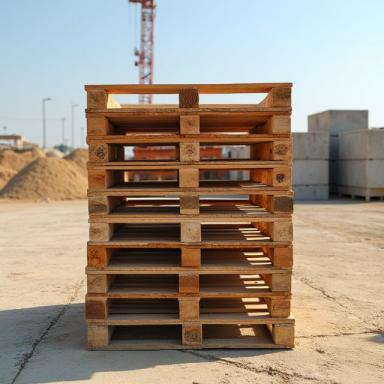pallet: (85, 83, 292, 113), (87, 322, 295, 351), (85, 295, 296, 323), (86, 138, 293, 166), (87, 217, 294, 245), (86, 191, 294, 218), (86, 165, 293, 192), (86, 112, 292, 139), (85, 245, 293, 271), (85, 270, 293, 296), (108, 325, 182, 346), (107, 274, 179, 294), (108, 145, 179, 162), (199, 93, 268, 110), (199, 170, 250, 188), (108, 93, 179, 104), (200, 145, 250, 159), (125, 170, 178, 182), (199, 194, 249, 206), (199, 274, 264, 282), (111, 298, 180, 305), (201, 222, 256, 229), (200, 297, 265, 302), (116, 248, 182, 252), (127, 195, 179, 200), (200, 130, 249, 135), (125, 131, 179, 135)
